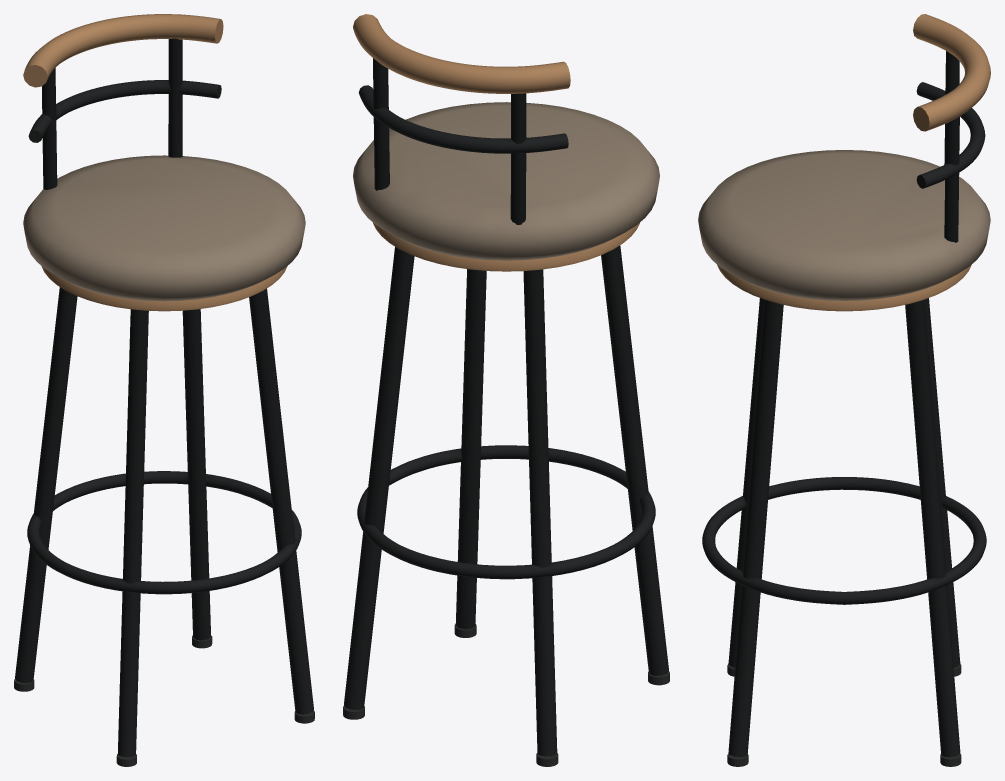
The model's file is stool-balanced-c715789f30.glb.
3 renders of one model, left to right at view 1: azimuth 30°, elevation 25°; view 2: azimuth 150°, elevation 25°; view 3: azimuth 270°, elevation 25°, orthographic. The views are drawn at different scales.
Parts seen in each view (by area): view 1: stool; view 2: stool; view 3: stool.
Part boxes in pixels (<box>): stool: <box>14,14,314,766</box>; stool: <box>343,14,669,766</box>; stool: <box>698,14,990,766</box>.
Bounding box in the file's own units: 0.3599 × 0.891 × 0.3602.
